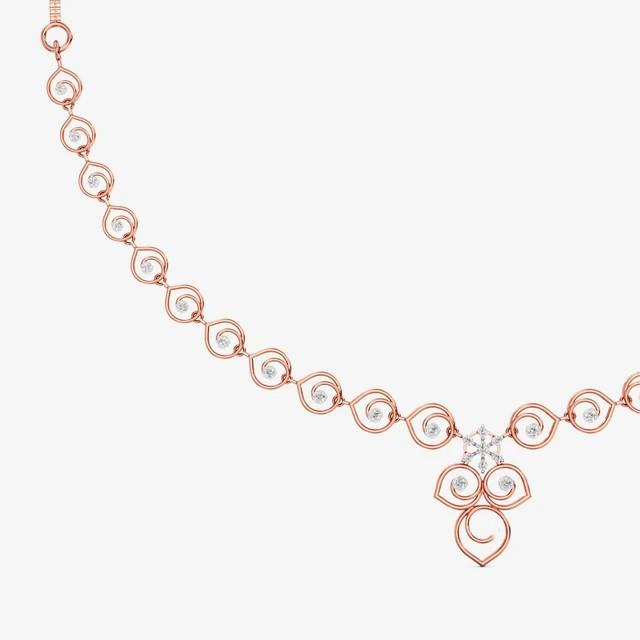missing gem: (491, 525, 503, 541)
